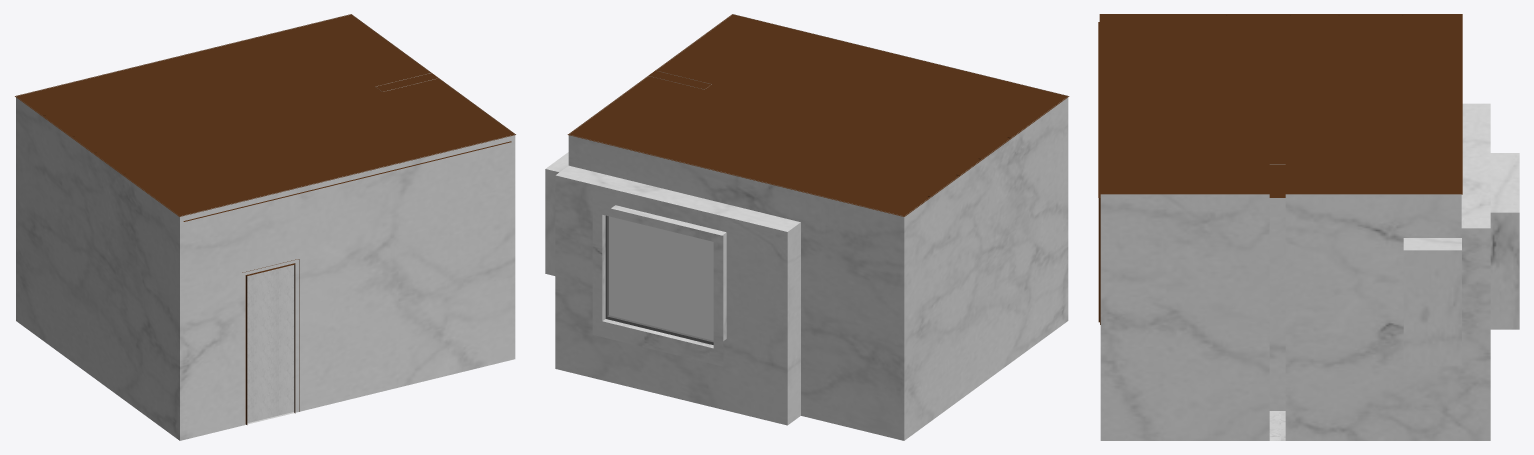
File: room.glb
The picture shows the model from 3 angles, left to right: view 1: azimuth 30°, elevation 25°; view 2: azimuth 150°, elevation 25°; view 3: azimuth 270°, elevation 25°; orthographic projection. The views are drawn at different scales.
Visible parts, largest first — view 1: wall, high, wall.003, mirror.003; view 2: wall, high, wall.010, wall.002; view 3: wall, high, ground, mirror.003.
Boxes of the visible parts, box(x1,y1,x2,y2) form: wall: box(16, 14, 515, 440); high: box(15, 14, 515, 216); wall.003: box(242, 259, 299, 424); mirror.003: box(183, 141, 511, 221); wall: box(545, 14, 1068, 440); high: box(567, 14, 1069, 216); wall.010: box(609, 216, 713, 340); wall.002: box(605, 215, 713, 344); wall: box(1100, 103, 1519, 440); high: box(1099, 14, 1462, 194); ground: box(1269, 411, 1285, 440); mirror.003: box(1098, 22, 1285, 197).
Bounding box in the file's own units: 5.27 × 3.16 × 4.87.
Materials: 17 (6 with a texture image).
